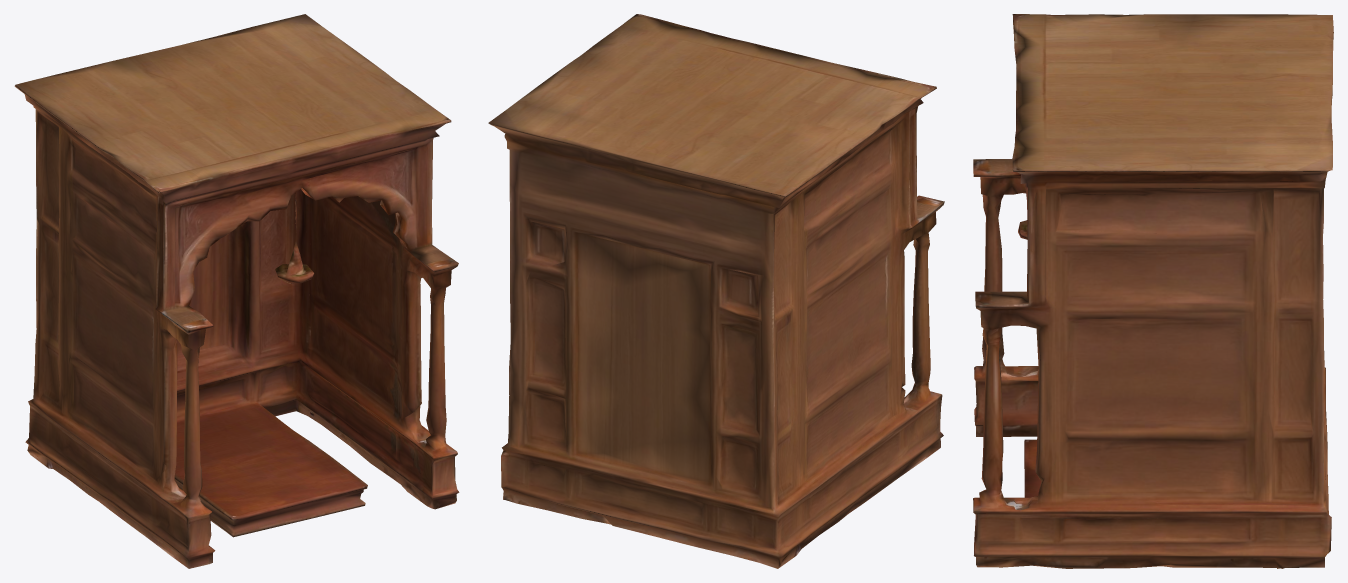
File: pooja-room.glb
3 views of the same model, side by side, from view 1: azimuth 30°, elevation 25°; view 2: azimuth 150°, elevation 25°; view 3: azimuth 270°, elevation 25° (orthographic). The views are drawn at different scales.
Visible parts, largest first — view 1: Object_4; view 2: Object_4; view 3: Object_4.
Part boxes in pixels (x1,y1,x2,y2): Object_4: (14, 14, 459, 568); Object_4: (488, 14, 944, 568); Object_4: (973, 14, 1333, 568).
Bounding box in the file's own units: 1.64 × 1.99 × 1.6.
Materials: 1 (1 with a texture image).
